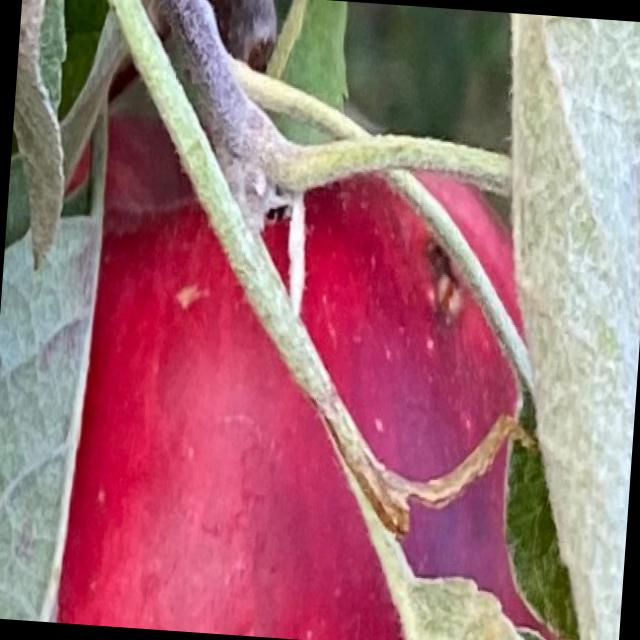Apples: (31, 110, 600, 639)
